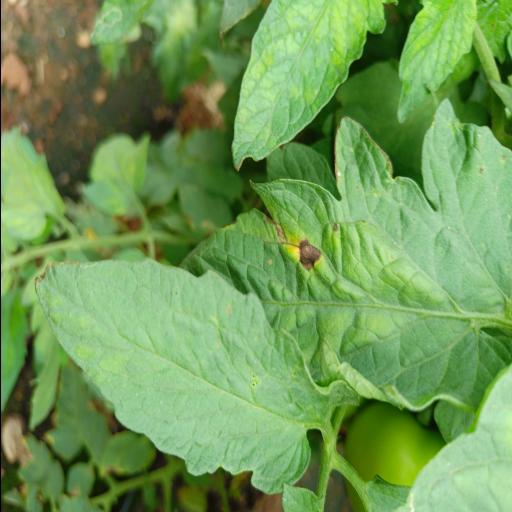disease_tomato: (179, 98, 512, 410)
